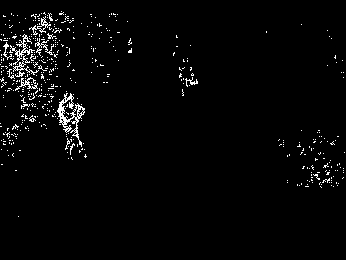person: (58, 90, 88, 161)
